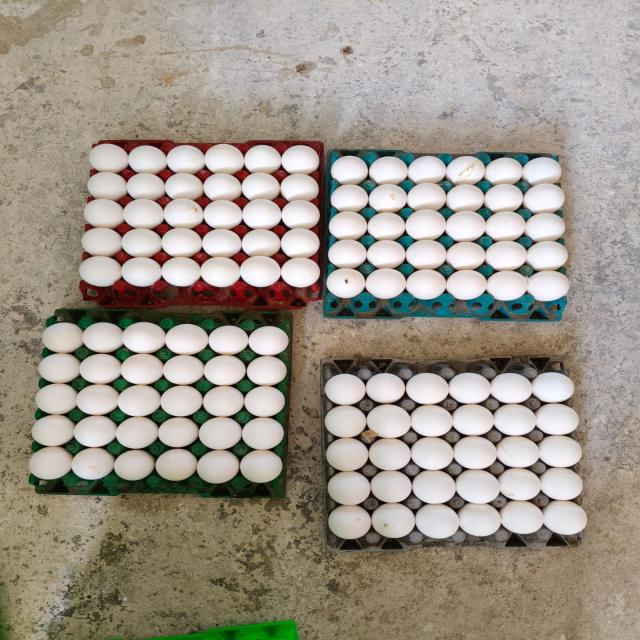egg_tray: (322, 357, 586, 550), (29, 310, 291, 496), (324, 150, 568, 320), (80, 141, 323, 308), (146, 620, 299, 640), (113, 638, 123, 640)
